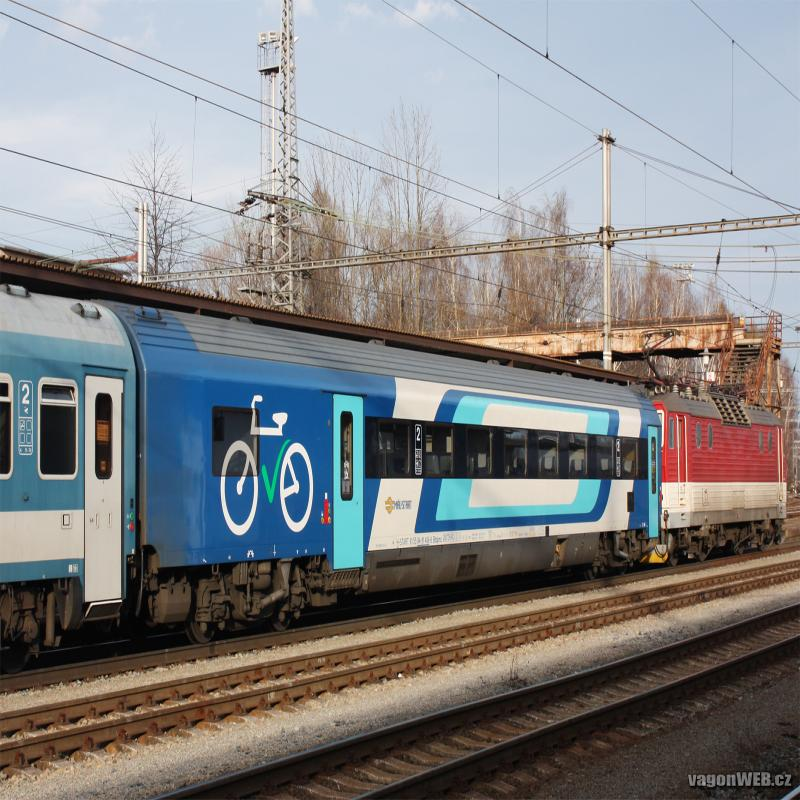train: (95, 301, 663, 653)
